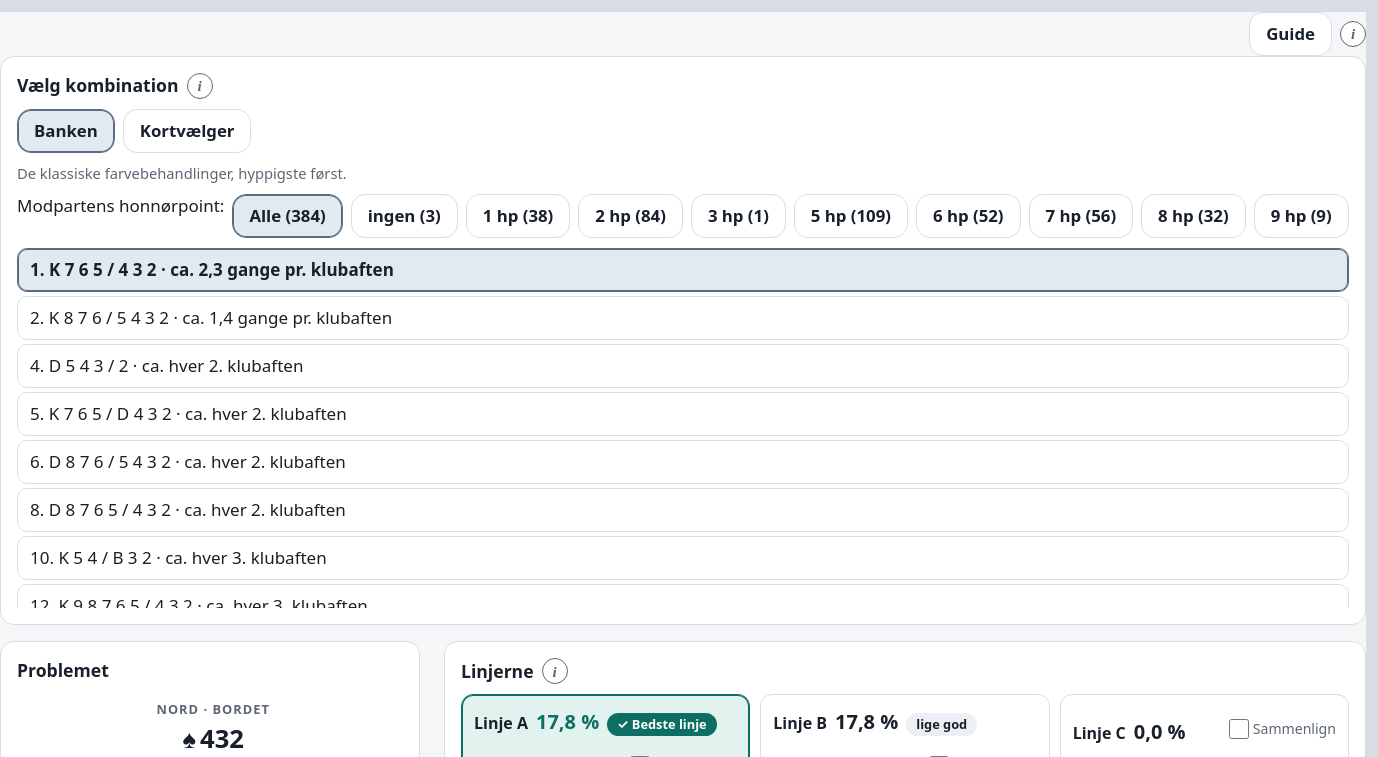
Import i Analyse › fejl siger, hvad der er galt, og hvordan det rettes
Click the button "Kortvælger": (187, 131) 123,109 -> 252,153
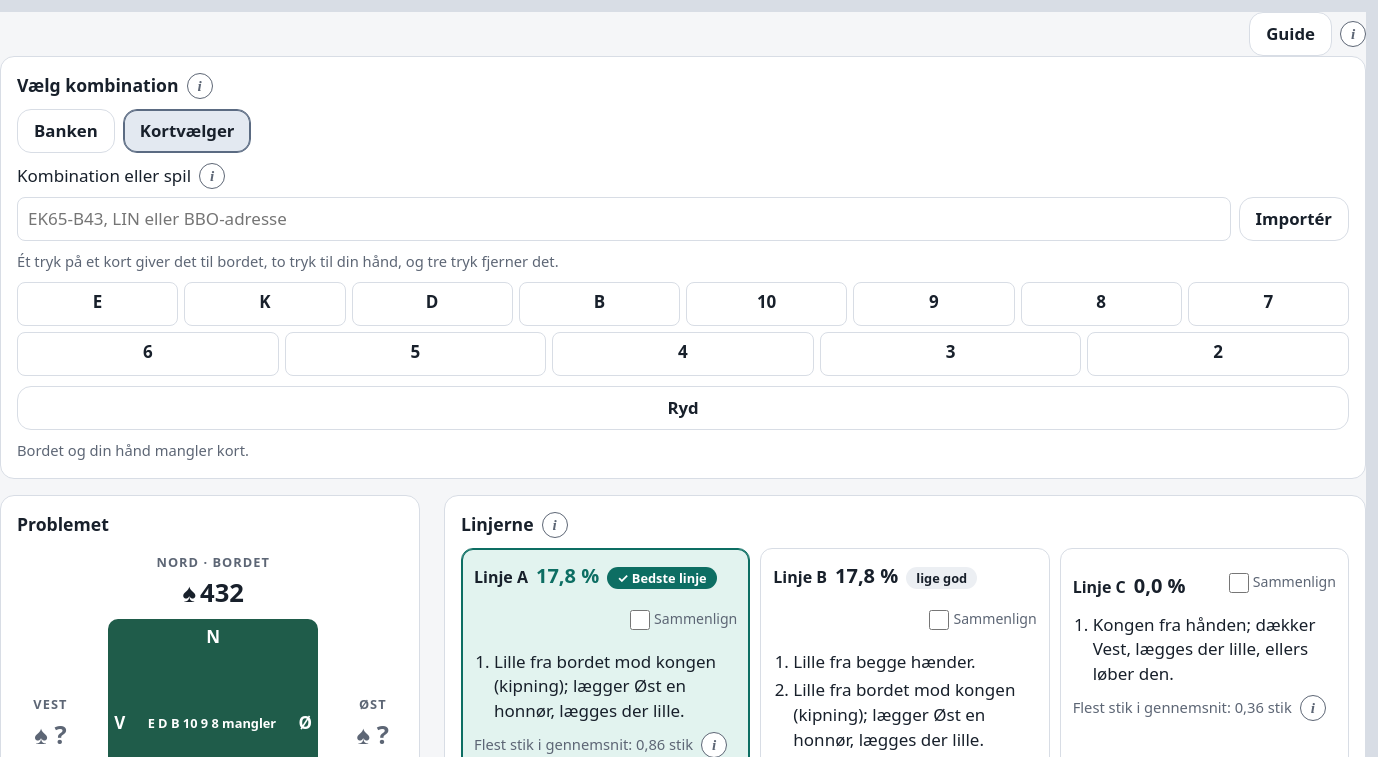
In the field labelled "Kombination eller spil": (624, 219) 17,197 -> 1230,241, type "AK6-AJ4"
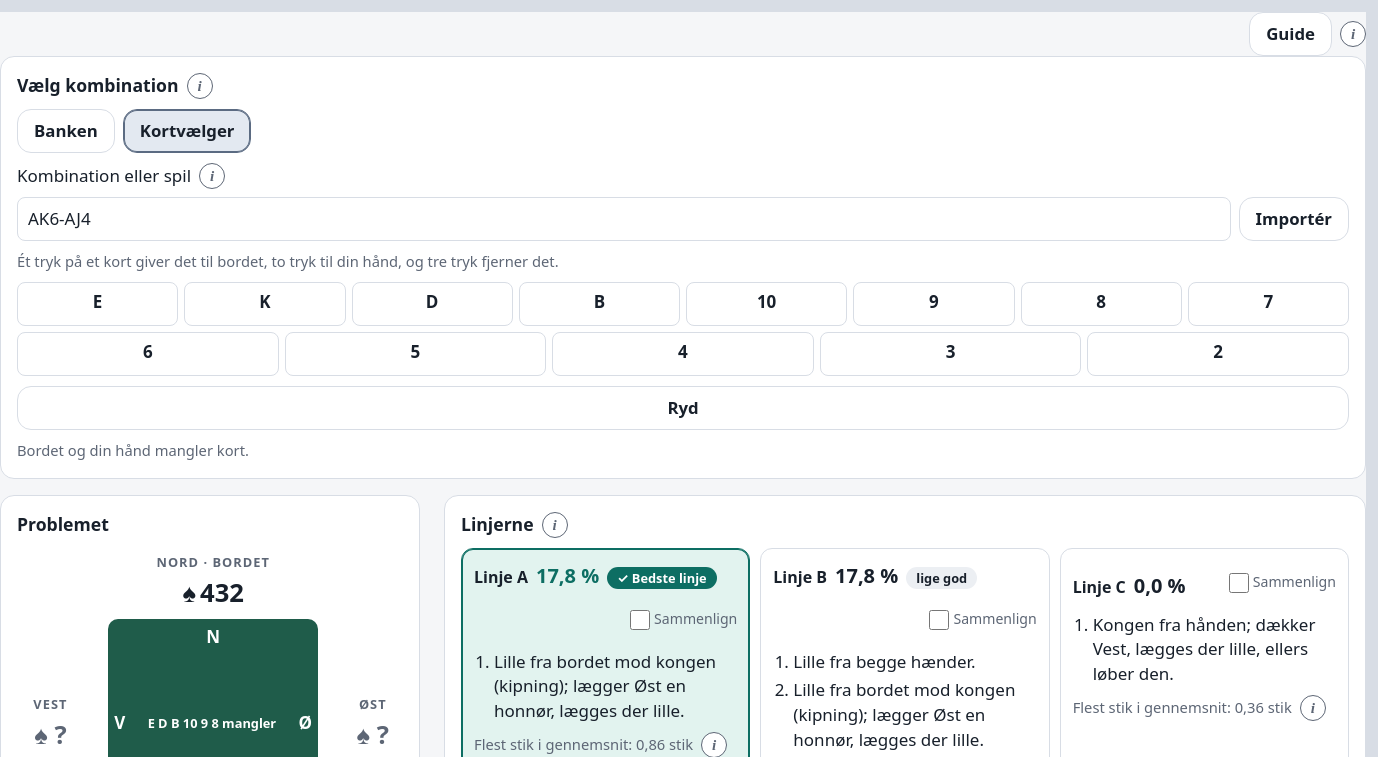
Click the button "Importér": (1294, 219) 1238,197 -> 1349,241
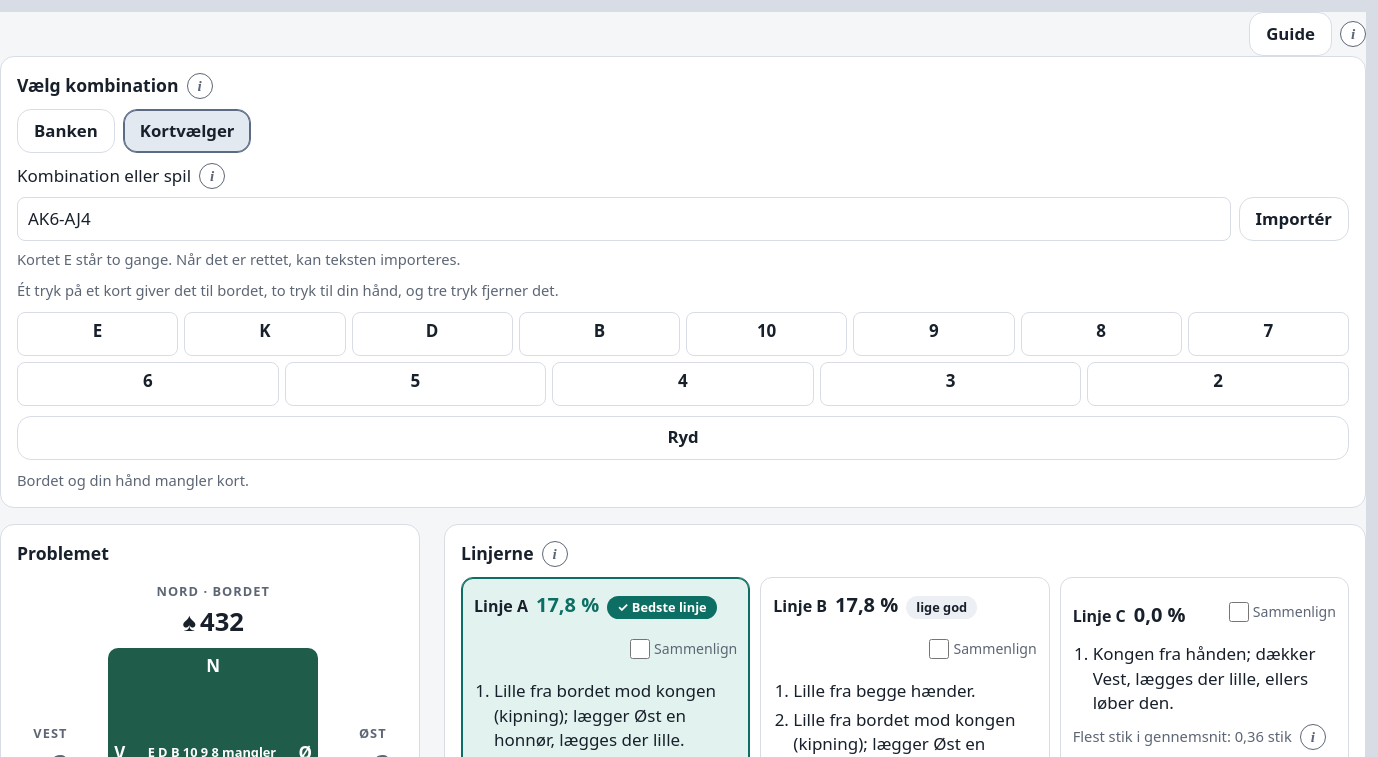
Expected: the message "Kortet E står to gange. Når det er rettet, kan teksten importeres." is shown, 17,249 -> 460,269
Replace the text in the field labelled "Kombination eller spil" with "https://tinyurl.com/2p8x7k": (624, 219) 17,197 -> 1230,241
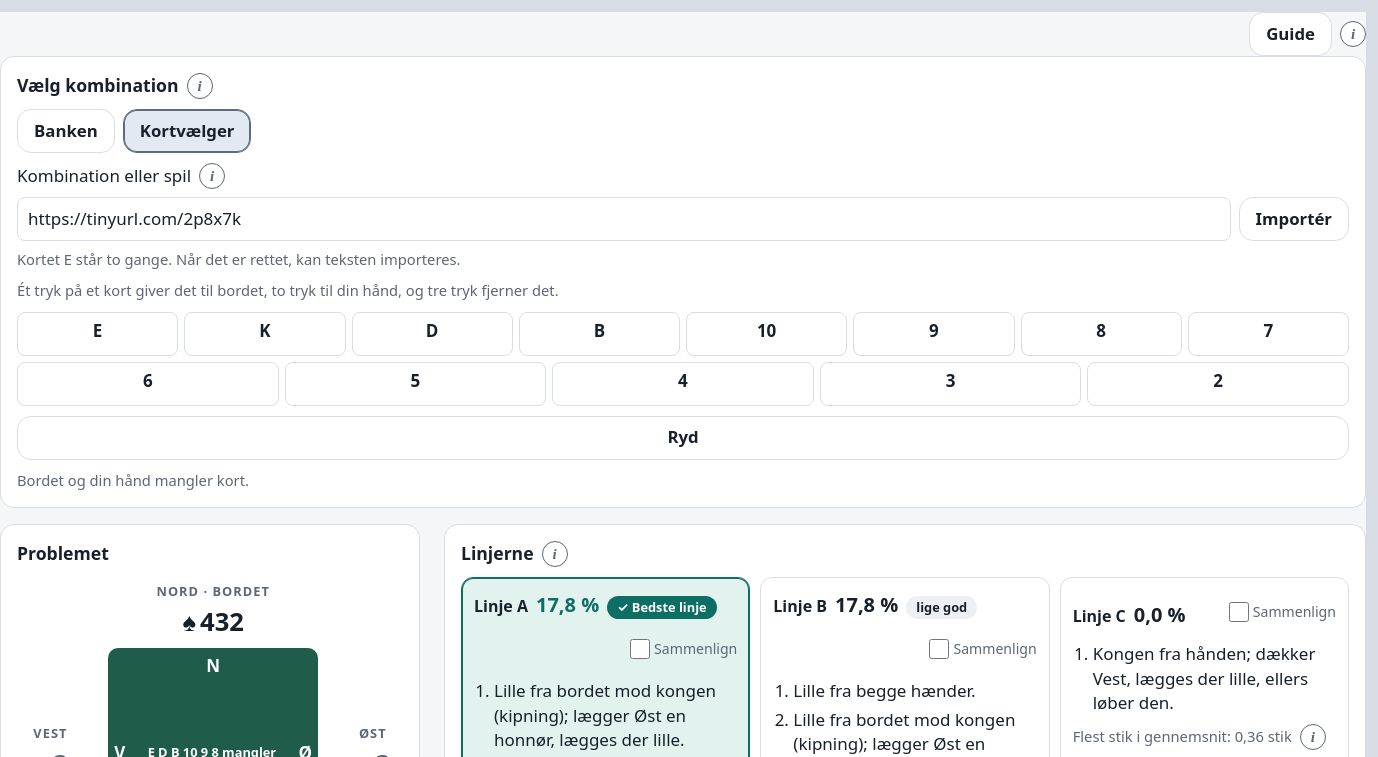
Click the button "Importér": (1294, 219) 1238,197 -> 1349,241
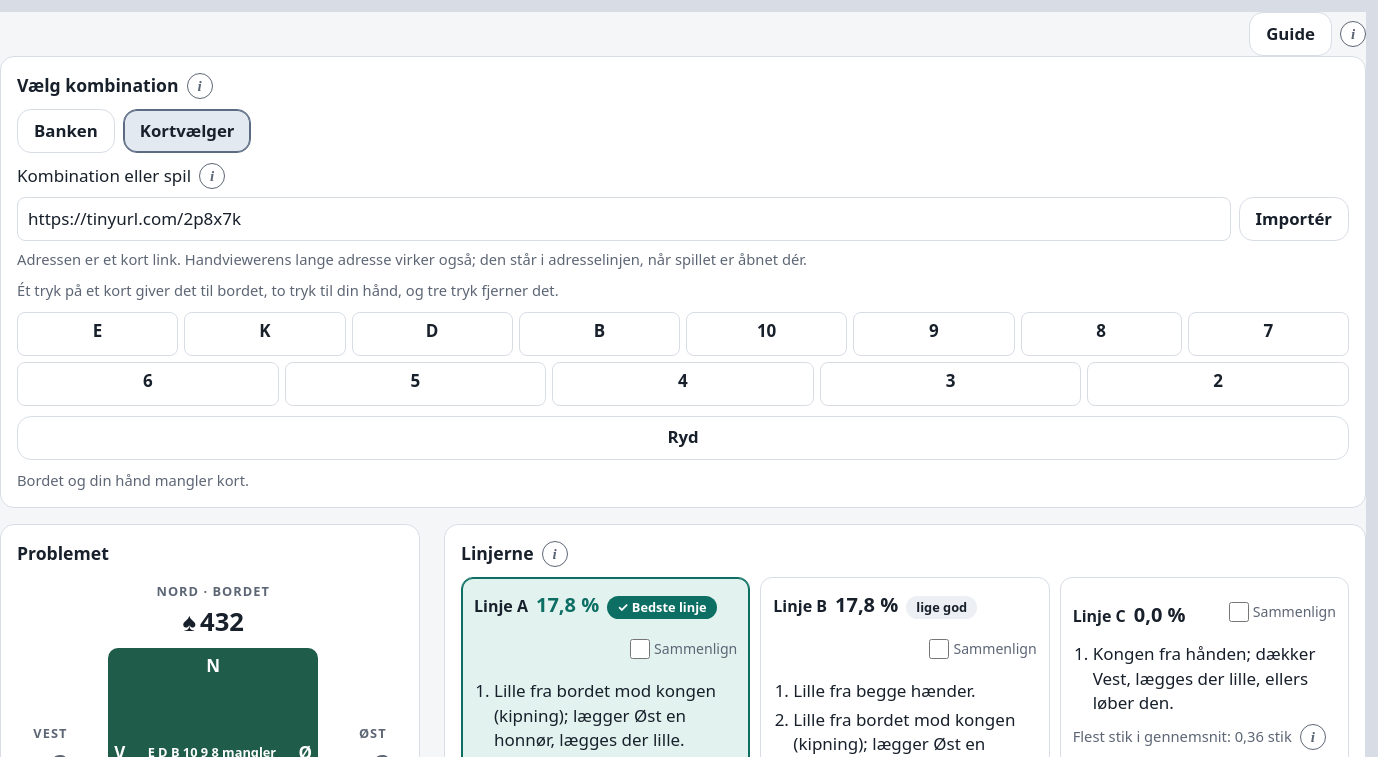
Expected: the 1st message shows "kort link. Handviewerens lange adresse virker også; den står i adresselinjen", 17,249 -> 807,269
